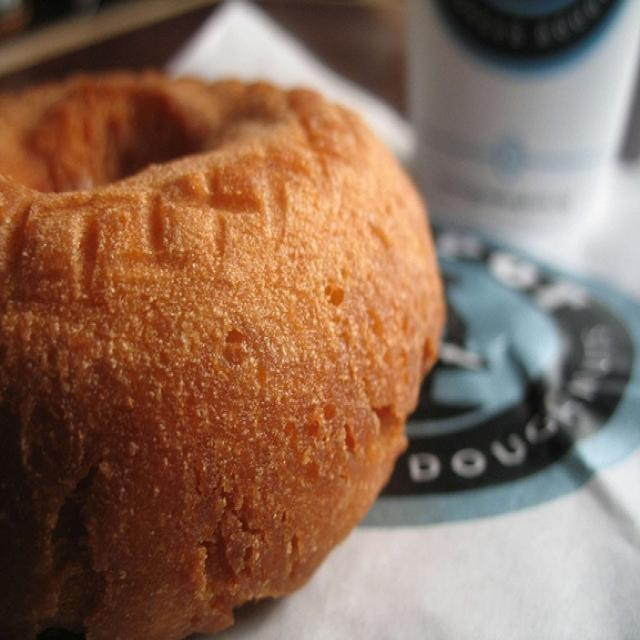炸货点心: (20, 24, 514, 597)
